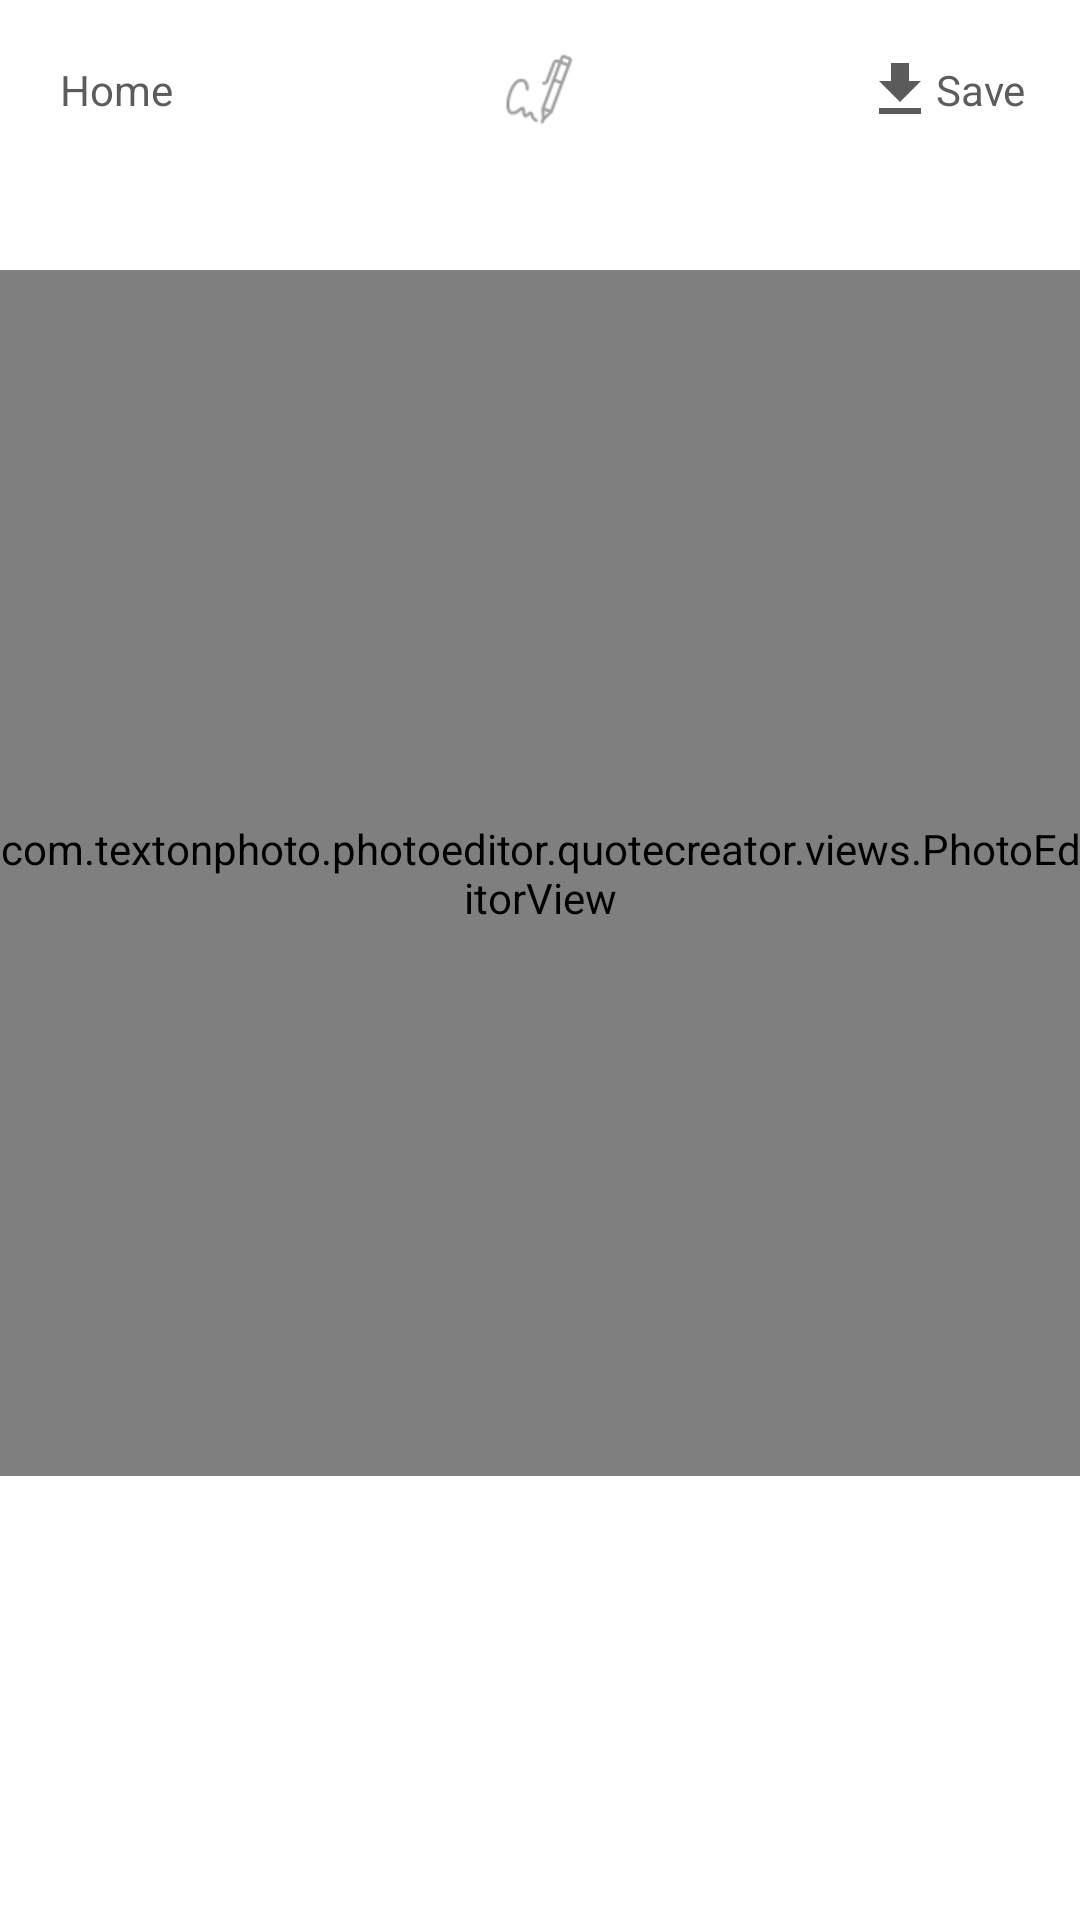

Icon bounding boxes for this 1080w x 1920h phone screenshot, format (x1,y1,x2,y2):
pen: (506,55,573,124)
